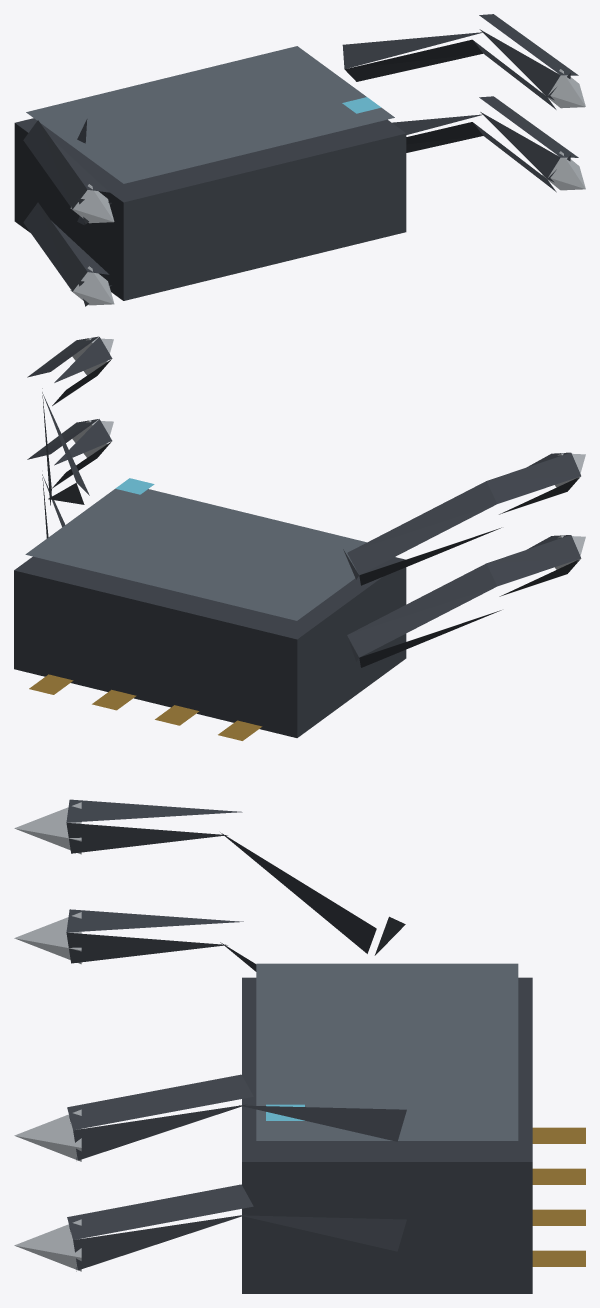
Rendered from droid-four-armed-combatant.lod.glb.
The picture shows the model from 3 angles, top to bottom: view 1: azimuth 30°, elevation 25°; view 2: azimuth 150°, elevation 25°; view 3: azimuth 270°, elevation 25°; orthographic projection. The views are drawn at different scales.
Parts seen in each view (by area): view 1: m; view 2: m; view 3: m.
Part boxes in pixels (x1,y1,x2,y2): m: [14, 14, 585, 306]; m: [14, 336, 585, 740]; m: [14, 799, 585, 1293].
Bounding box in the file's own units: 0.1 × 0.0405 × 0.0728.
